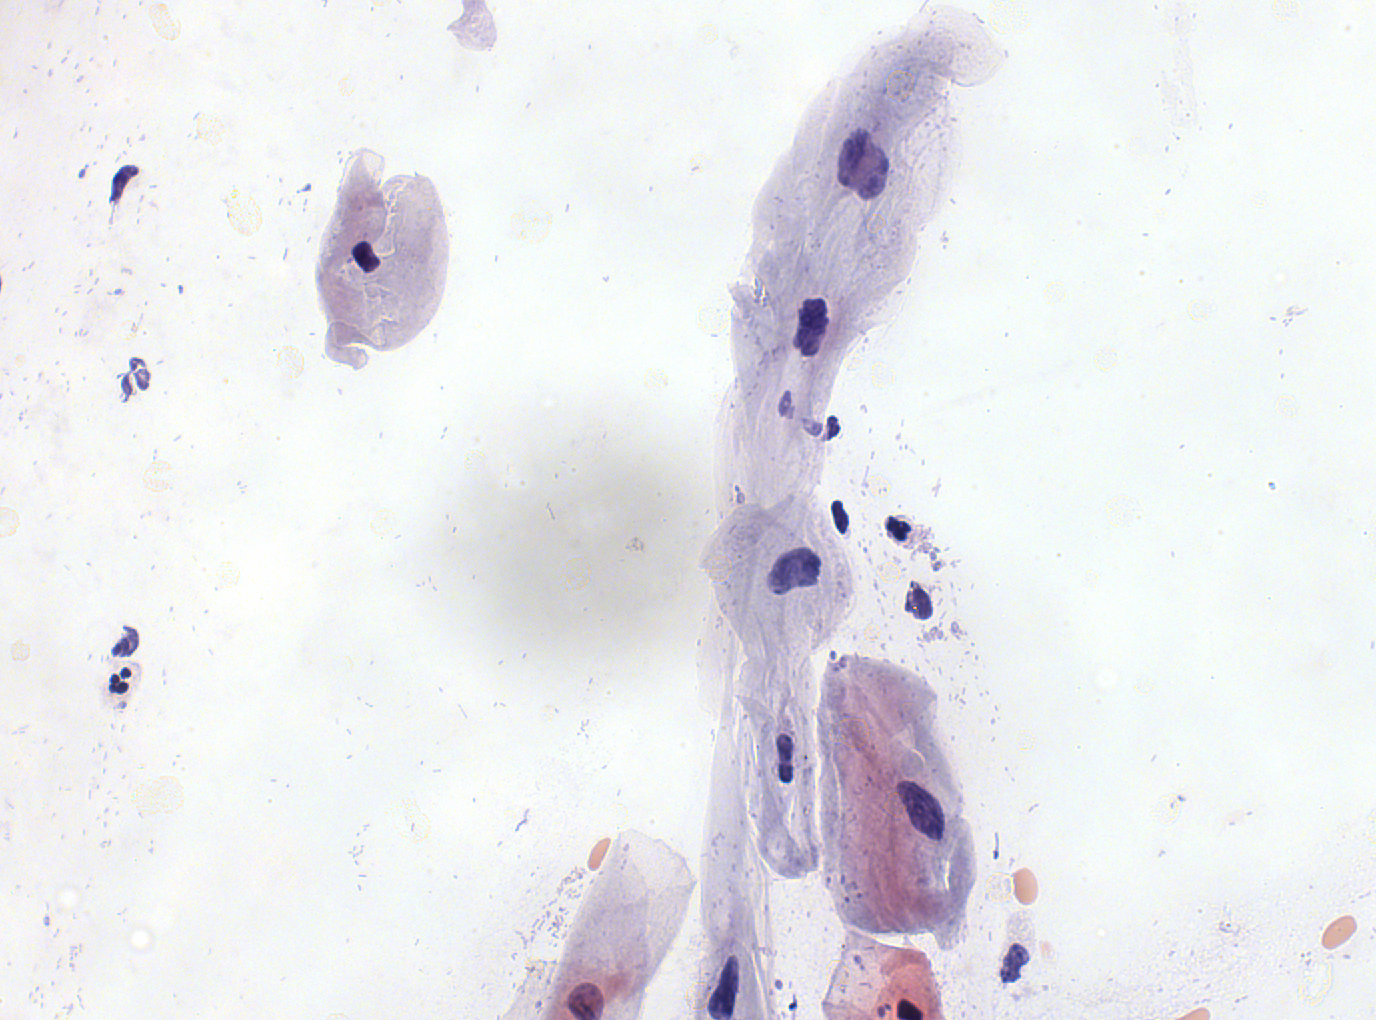Abnormal_Nucleus: (837, 127, 891, 204), (889, 779, 944, 842), (765, 544, 822, 600), (707, 955, 745, 1020), (772, 732, 797, 786)
Normal_Nucleus: (792, 297, 831, 357), (566, 981, 605, 1020), (350, 240, 382, 275), (892, 996, 919, 1020)
